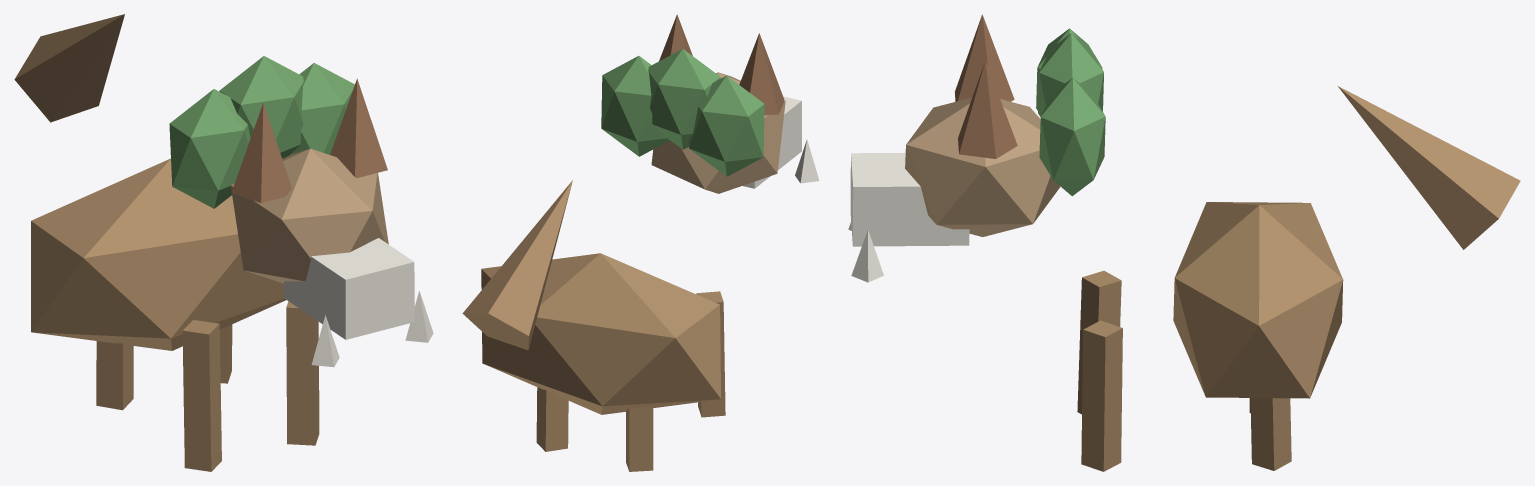
The model's file is npcpose_wolf_idle_11.glb.
3 views of the same model, side by side, from view 1: azimuth 30°, elevation 25°; view 2: azimuth 150°, elevation 25°; view 3: azimuth 270°, elevation 25° (orthographic). The views are drawn at different scales.
Parts seen in each view (by area): view 1: npcpose; view 2: npcpose; view 3: npcpose.
Part boxes in pixels (x1,y1,x2,y2): npcpose: (14, 14, 433, 471); npcpose: (462, 14, 819, 471); npcpose: (848, 14, 1520, 471).
Bounding box in the file's own units: 0.8873 × 1.22 × 1.85.
